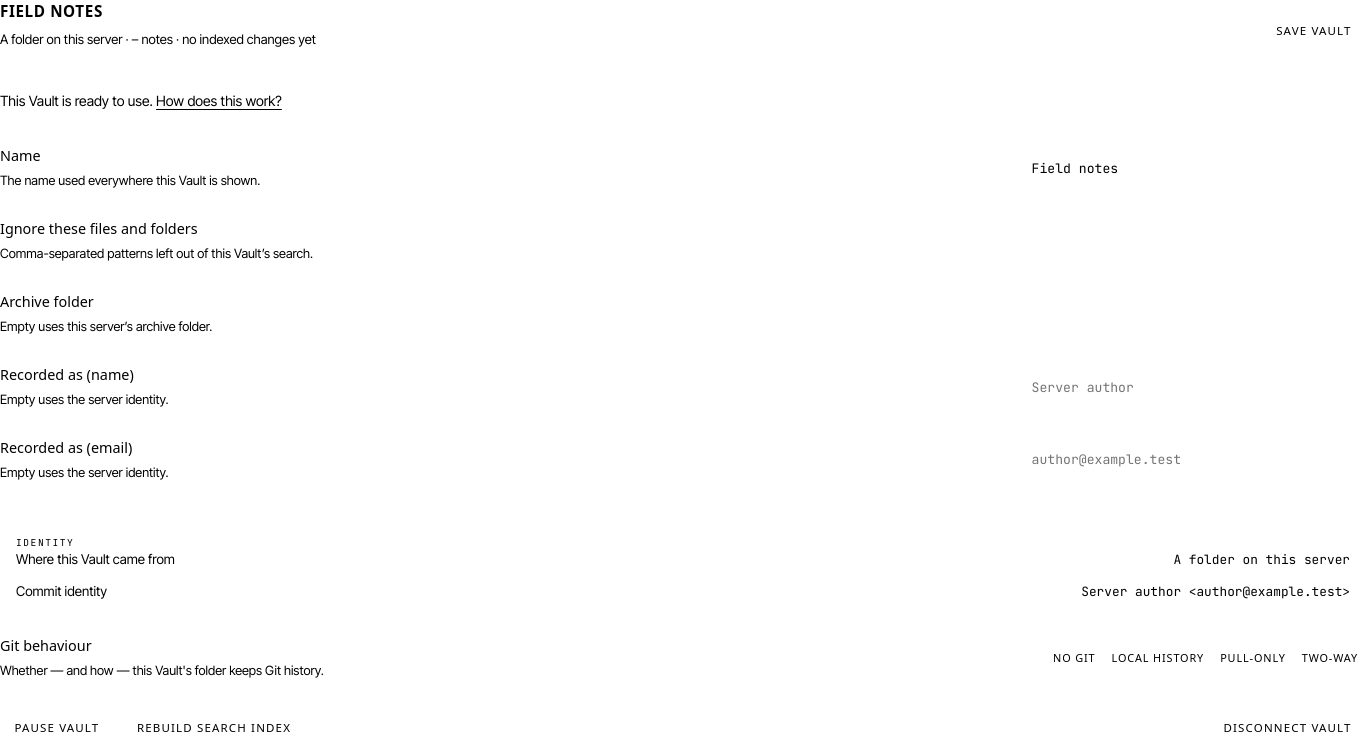
it: VaultSettingsDetail — the Git behaviour control › restores the Vault and reports nothing changed when the edit step fails
Expected: the heading "Field notes" is shown, [0, 1, 103, 21]
Step 1. Click the button "Local history" → (1158, 658), box [1104, 644, 1212, 672]
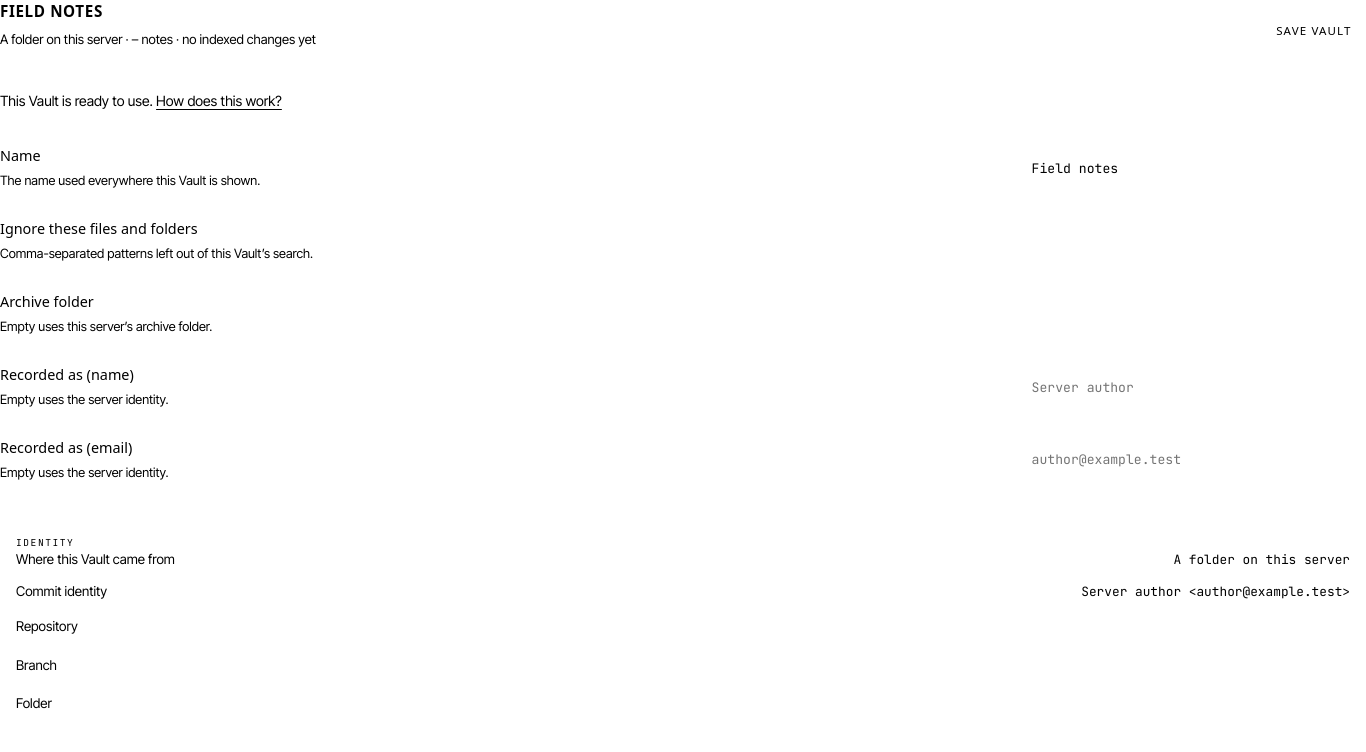
Step 2. Click the button "Save Vault" → (1314, 31), box [1262, 16, 1365, 45]
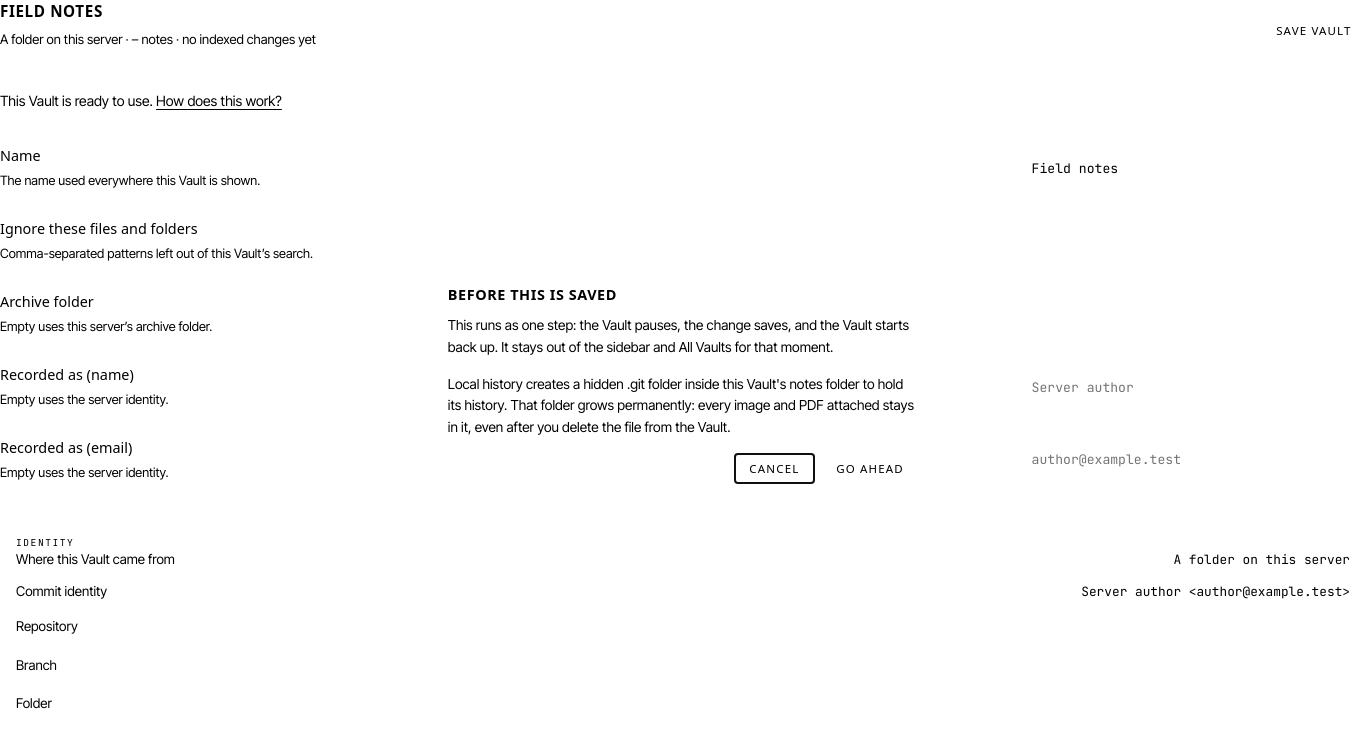
Step 3. Click the button "Go ahead" → (870, 469), box [822, 454, 918, 483]
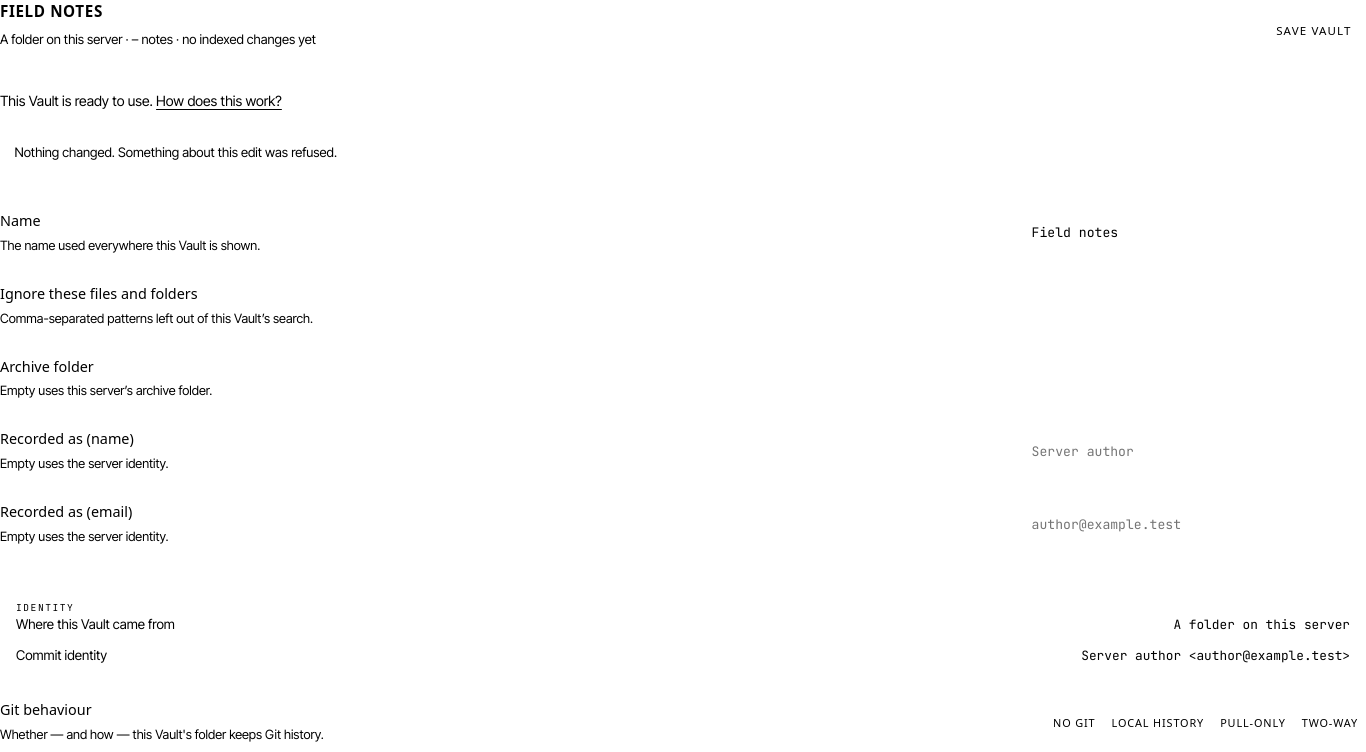
Expected: the text "Nothing changed. Something about this edit was refused." is shown, [14, 144, 337, 160]
